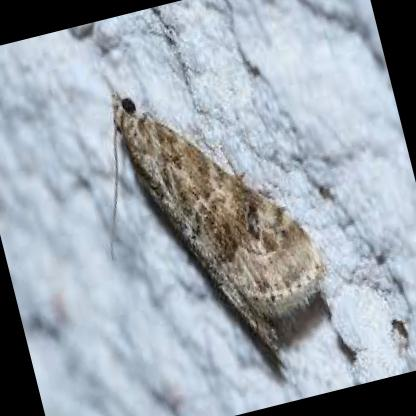Hellula undalis: (107, 88, 333, 372)
